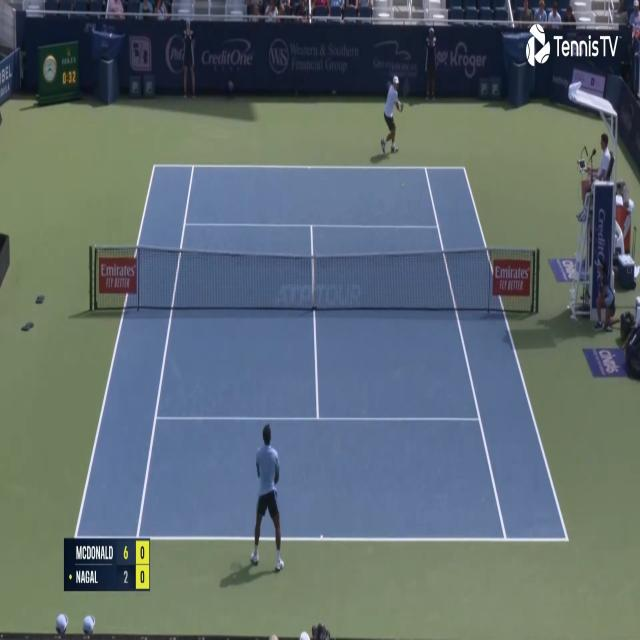tennis-player: (248, 421, 288, 576), (379, 72, 405, 157)
